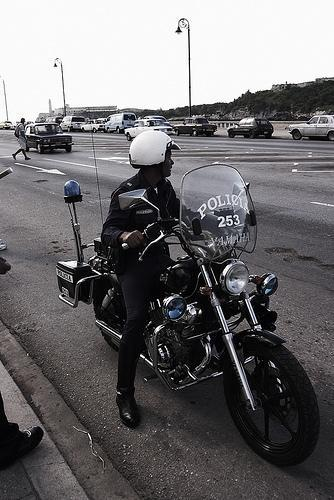car: (24, 123, 73, 154), (287, 114, 334, 140), (123, 119, 173, 142), (173, 116, 217, 138), (227, 118, 274, 138), (104, 112, 136, 134), (59, 116, 89, 134), (144, 115, 174, 128), (83, 119, 108, 133), (4, 121, 12, 129)
motorcycle: (54, 165, 316, 474)
